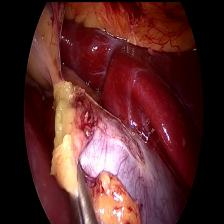Grasper: (60, 157, 99, 223)
